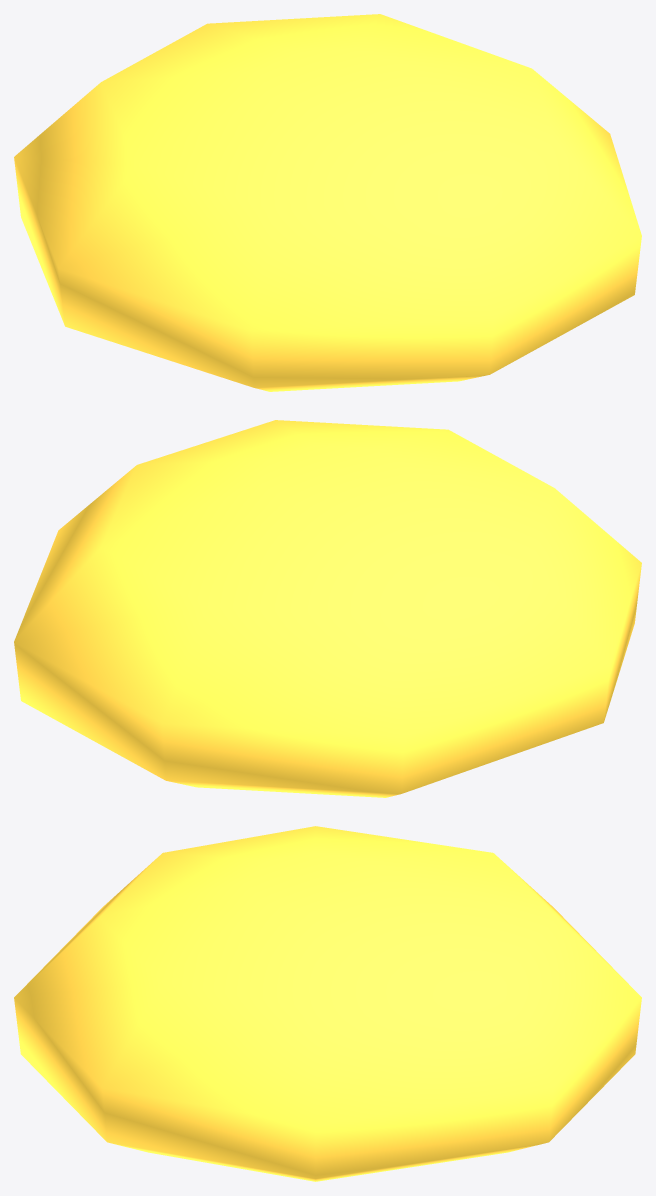
The model's file is Honeydew.fbx.
3 renders of one model, top to bottom at view 1: azimuth 30°, elevation 25°; view 2: azimuth 150°, elevation 25°; view 3: azimuth 270°, elevation 25°, orthographic. The views are drawn at different scales.
Visible parts, largest first — view 1: Honeydew; view 2: Honeydew; view 3: Honeydew.
Part boxes in pixels (x1,y1,x2,y2): Honeydew: [14, 14, 641, 391]; Honeydew: [14, 420, 641, 797]; Honeydew: [14, 826, 641, 1181].
Bounding box in the file's own units: 76.82 × 27.92 × 79.87.
